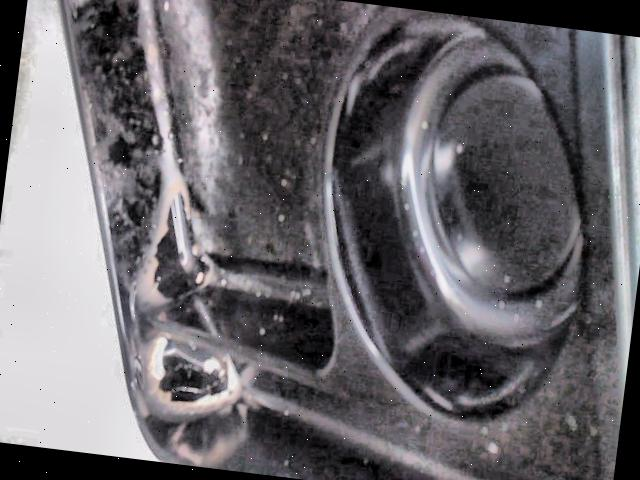Plastic: (58, 0, 640, 480)
